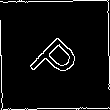P_NE: (24, 24, 86, 86)
